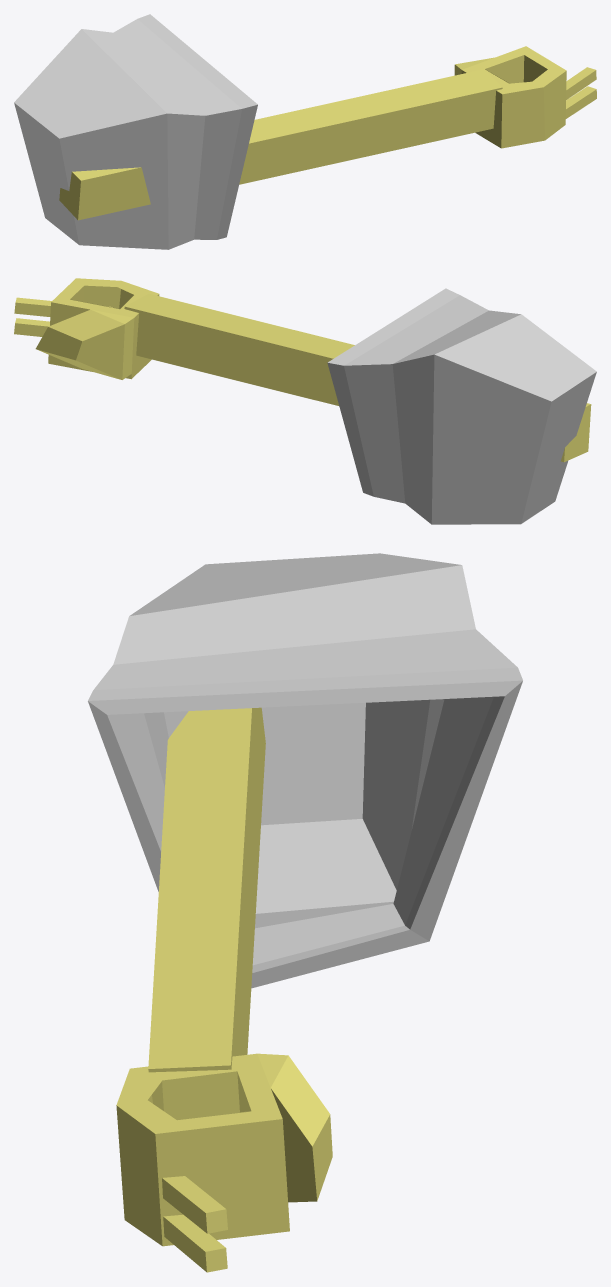
The model's file is Spongebob_HandGun.fbx.
3 views of the same model, one above another, from view 1: azimuth 30°, elevation 25°; view 2: azimuth 150°, elevation 25°; view 3: azimuth 270°, elevation 25° (orthographic). The views are drawn at different scales.
Parts seen in each view (by area): view 1: characterBob.004; view 2: characterBob.004; view 3: characterBob.004.
Boxes of the visible parts, left/top/right/bottom form: characterBob.004: left=14, top=14, right=596, bottom=249; characterBob.004: left=14, top=278, right=596, bottom=524; characterBob.004: left=88, top=553, right=522, bottom=1272.
Size of the model in its own units: 85.21 by 27.28 by 29.77.
